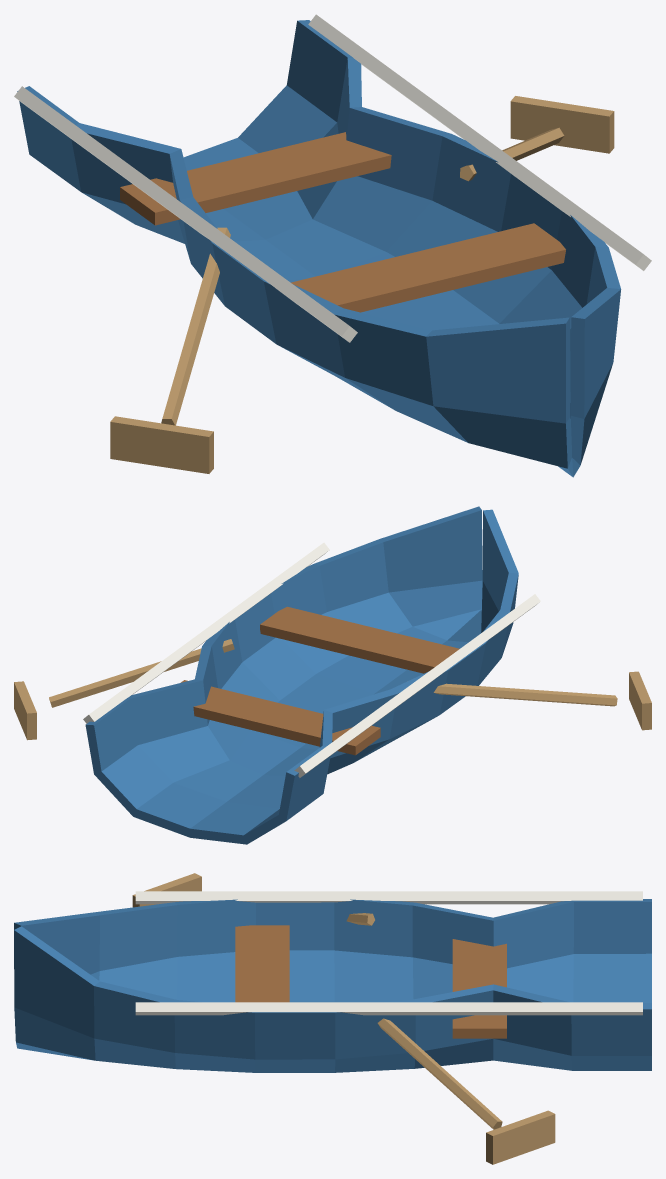
File: Rowboat.fbx
3 renders of one model, top to bottom at view 1: azimuth 30°, elevation 25°; view 2: azimuth 150°, elevation 25°; view 3: azimuth 270°, elevation 25°, orthographic. The views are drawn at different scales.
Visible parts, largest first — view 1: Hull, Seats, Oars, Trim; view 2: Hull, Seats, Trim, Oars; view 3: Hull, Trim, Seats, Oars.
Boxes of the visible parts, <box> form: Hull: <box>17,20,621,477</box>; Seats: <box>120,132,565,312</box>; Oars: <box>110,96,614,473</box>; Trim: <box>14,14,651,342</box>; Hull: <box>85,506,518,844</box>; Seats: <box>180,606,459,755</box>; Trim: <box>83,542,540,777</box>; Oars: <box>14,639,651,740</box>; Hull: <box>14,899,651,1072</box>; Trim: <box>135,891,642,1015</box>; Seats: <box>235,925,506,1038</box>; Oars: <box>132,873,555,1164</box>.
Size of the model in its own units: 6.87 by 1.49 by 7.04.
